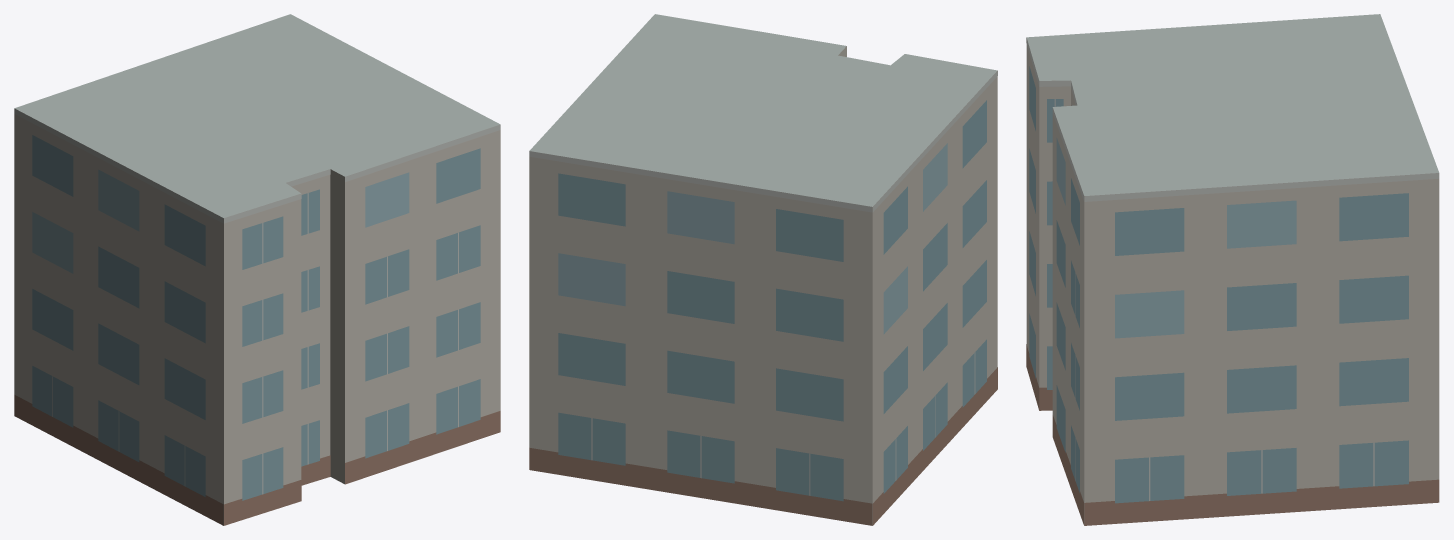
The model's file is survey-upis-32638076.glb.
The picture shows the model from 3 angles, left to right: view 1: azimuth 30°, elevation 25°; view 2: azimuth 150°, elevation 25°; view 3: azimuth 270°, elevation 25°; orthographic projection. The views are drawn at different scales.
Parts seen in each view (by area): view 1: survey-upis-32638076.tmp; view 2: survey-upis-32638076.tmp; view 3: survey-upis-32638076.tmp.
Boxes of the visible parts, x1,y1,x2,y2 form: survey-upis-32638076.tmp: (14, 14, 500, 525); survey-upis-32638076.tmp: (529, 14, 997, 525); survey-upis-32638076.tmp: (1026, 14, 1439, 525).
Size of the model in its own units: 16.24 by 13.7 by 15.55.
